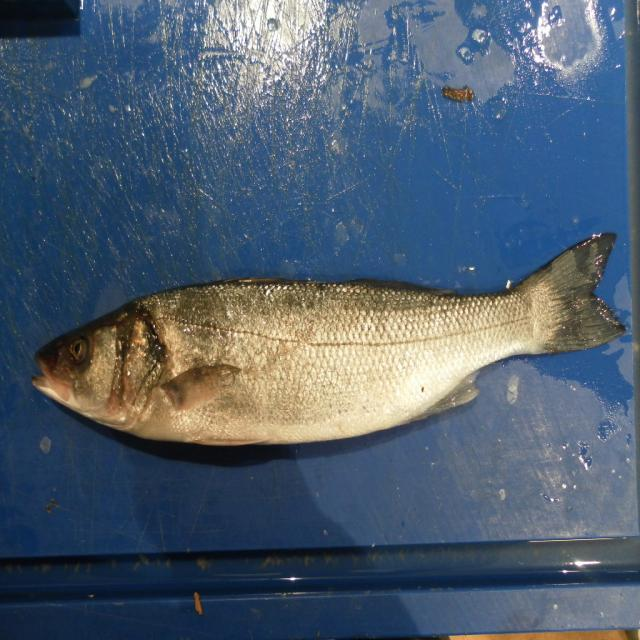Sea-Bass-levrek-: (33, 232, 626, 450)
